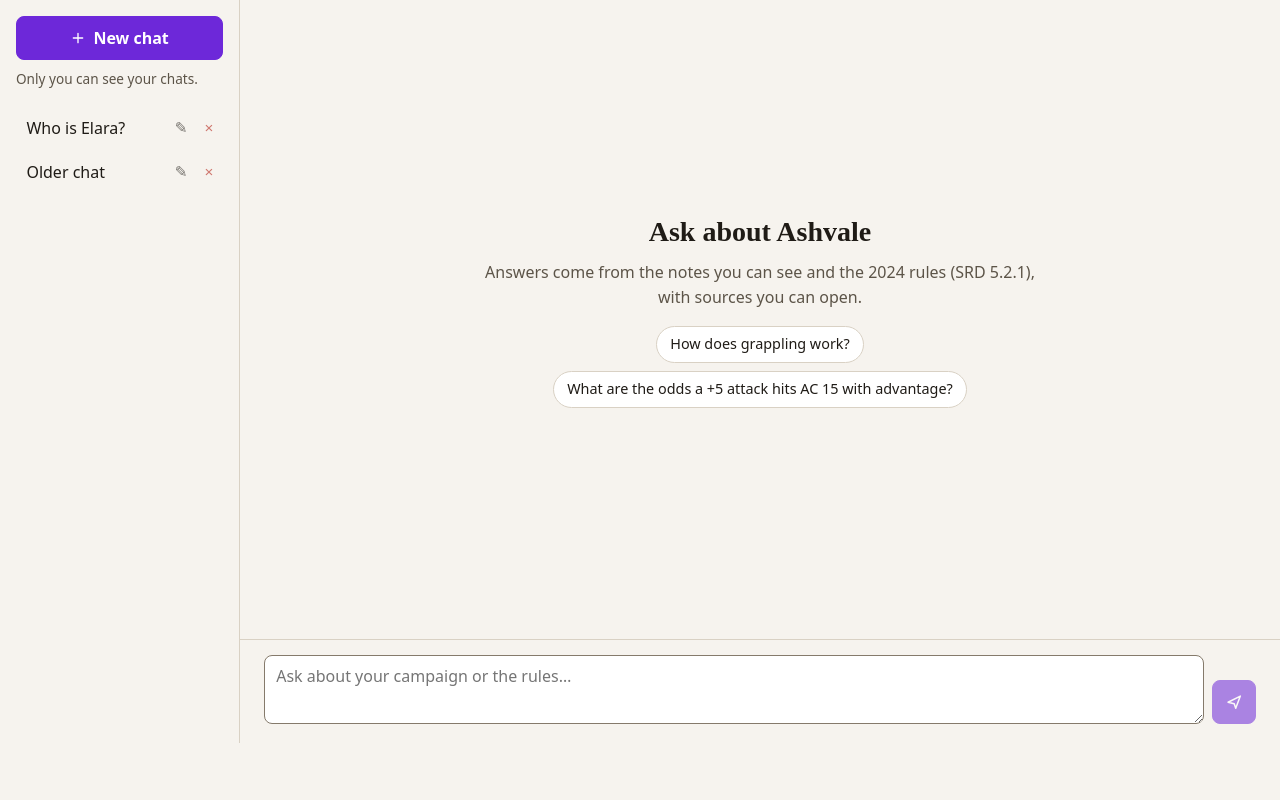
Scenario: ChatPage thread switching › C1: after starting a chat, switching away and back shows each thread's own messages
Type "Who is Elara?" into the text box named "Your question". click: (734, 689)
box: [264,655,1204,724]
Then press Enter
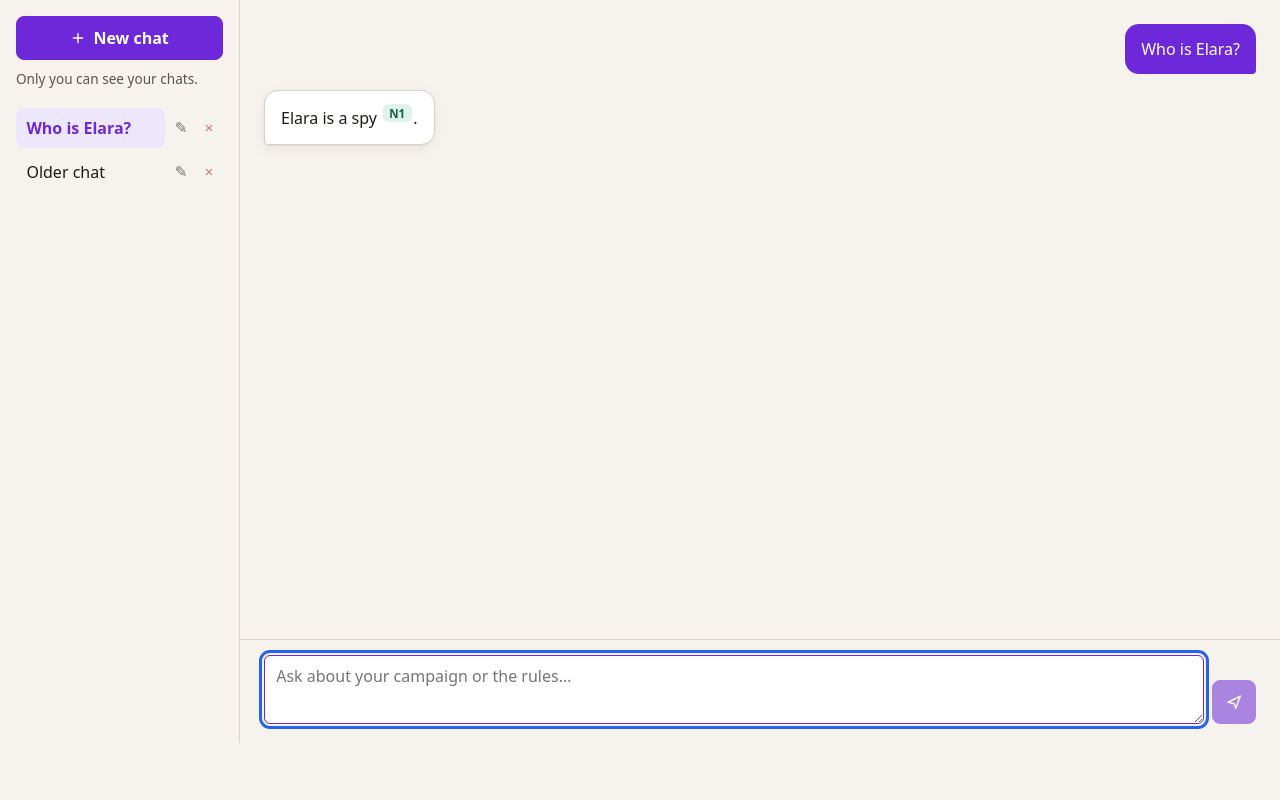
Expected: the button "N1" is shown, [383,104,412,122]
Click the button "Older chat". click: (90, 172)
box: [16,152,165,192]
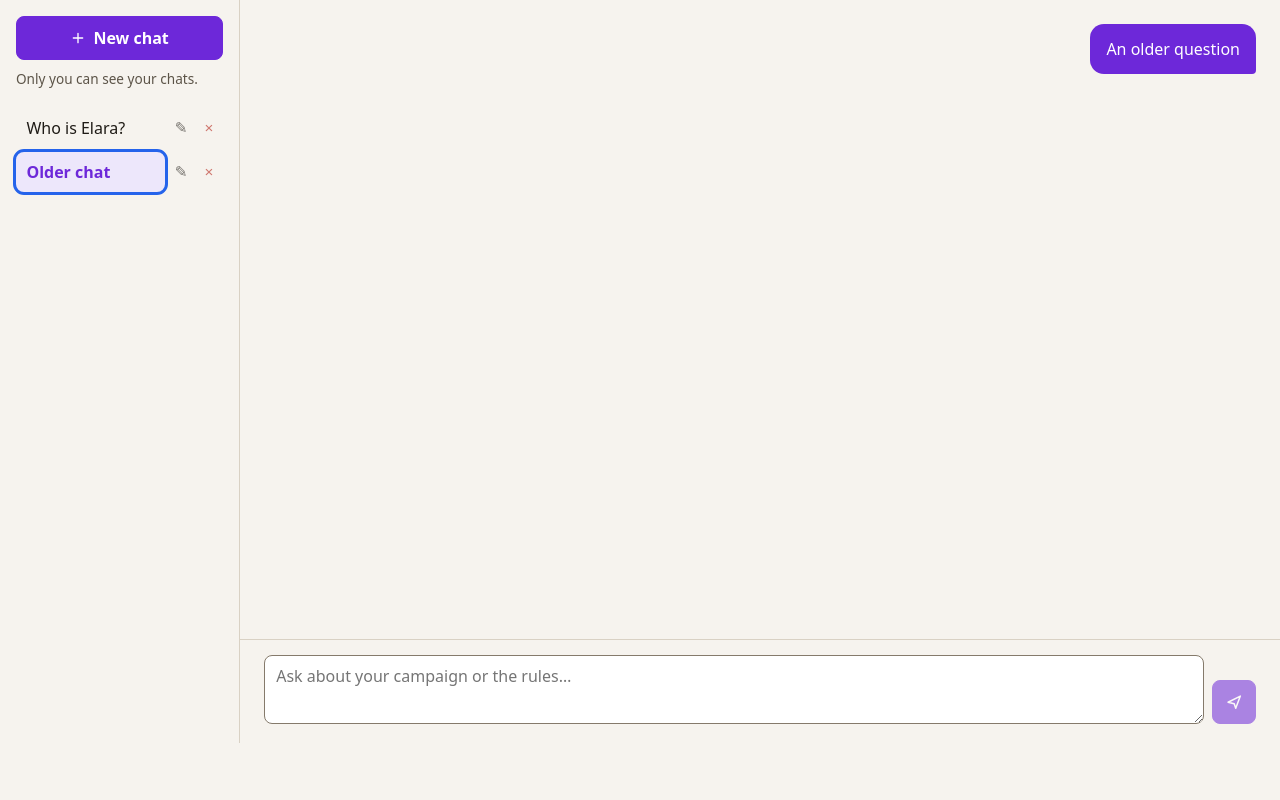
Expected: the text "An older question" is shown, [1106,37,1240,62]
Click the button "Who is Elara?". click: (90, 128)
box: [16,108,165,148]
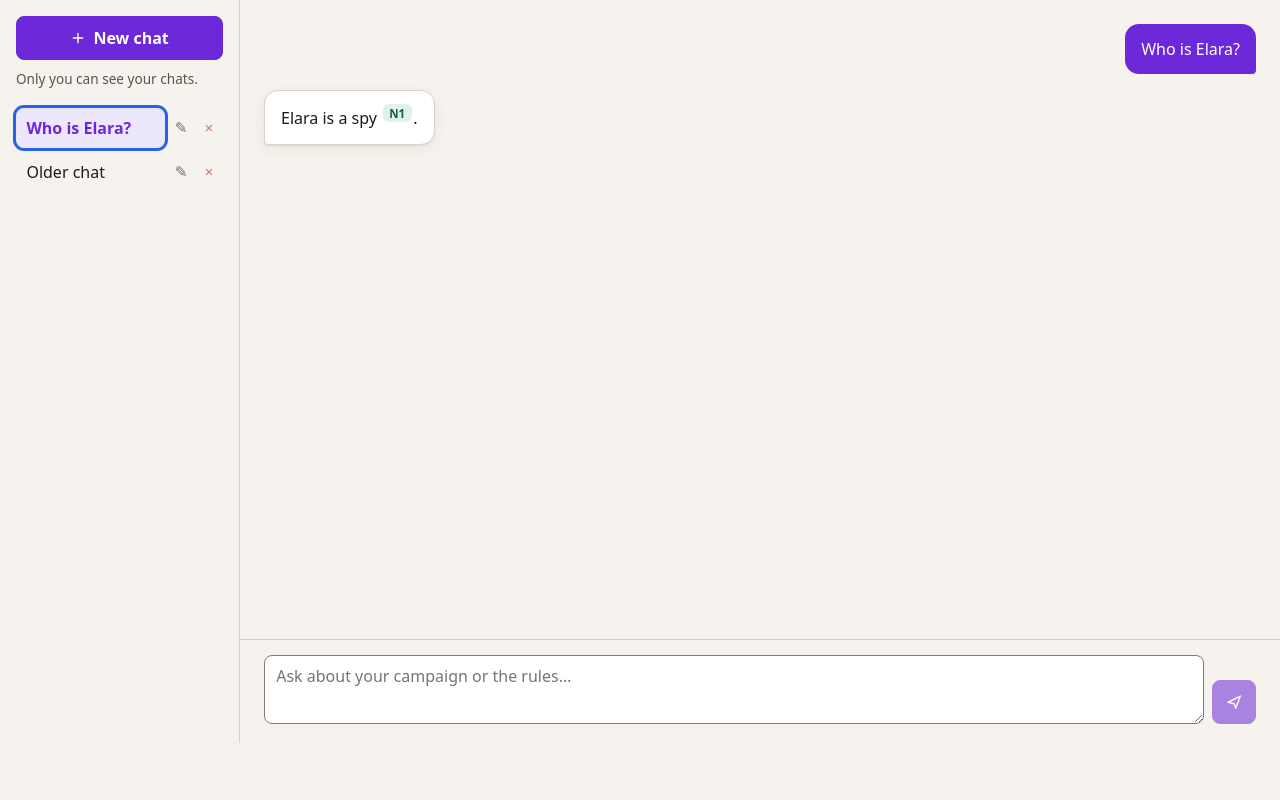
Expected: the button "N1" is shown, [383,104,412,122]
Expected: the text "An older question" is gone
